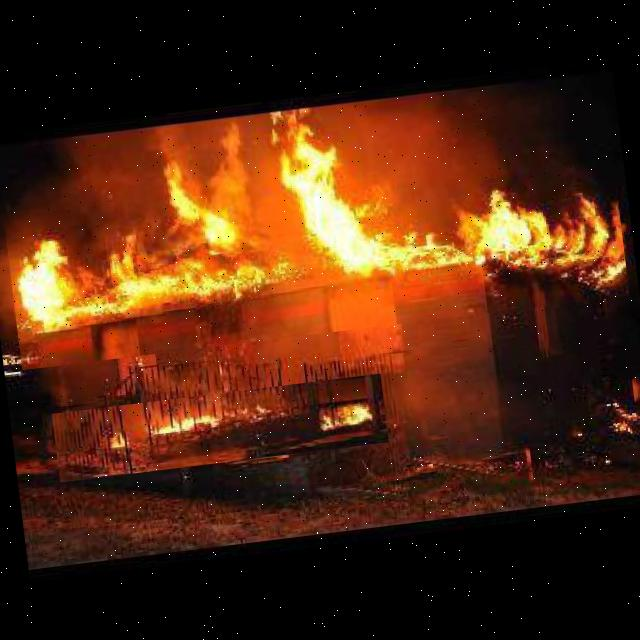fire: (0, 62, 629, 370), (51, 373, 388, 482)
